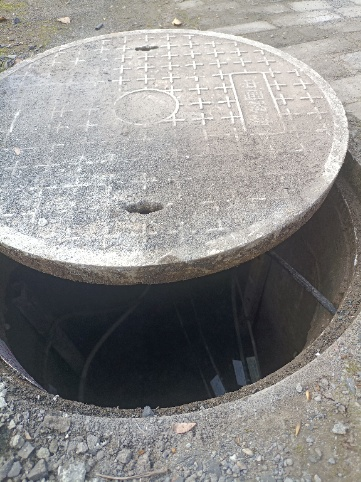well: (2, 26, 361, 436)
